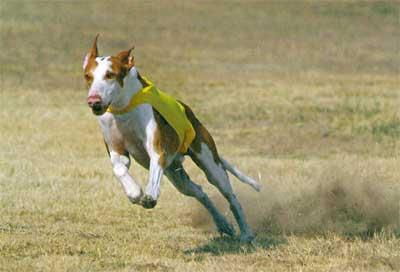Ibizan_hound: (82, 35, 261, 246)
